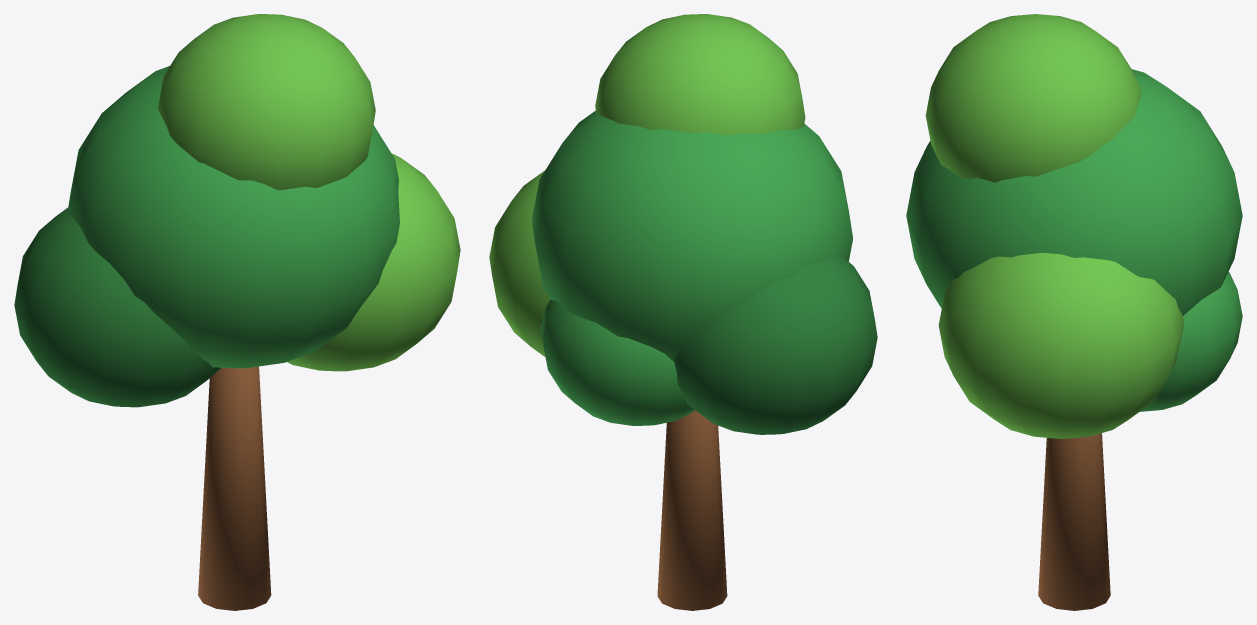
Rendered from tree_round.glb.
3 views of the same model, side by side, from view 1: azimuth 30°, elevation 25°; view 2: azimuth 150°, elevation 25°; view 3: azimuth 270°, elevation 25° (orthographic). The views are drawn at different scales.
Parts seen in each view (by area): view 1: Body; view 2: Body; view 3: Body.
Boxes of the visible parts, x1,y1,x2,y2 form: Body: [14, 14, 460, 610]; Body: [489, 14, 877, 610]; Body: [906, 14, 1242, 610].
Size of the model in its own units: 3.5 by 4.92 by 2.6.
